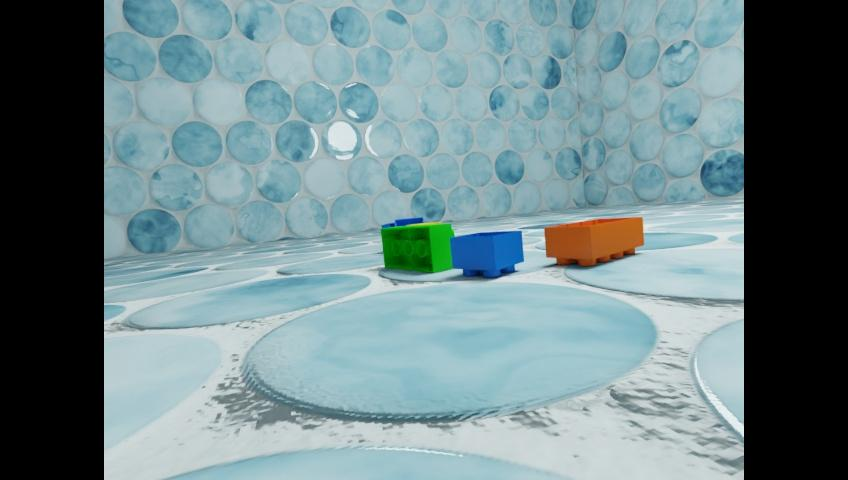2x2_blue: (449, 230, 523, 276), (394, 216, 423, 227), (381, 222, 394, 228)
4x2_green: (380, 223, 453, 272)
4x2_orange: (544, 216, 643, 265)
